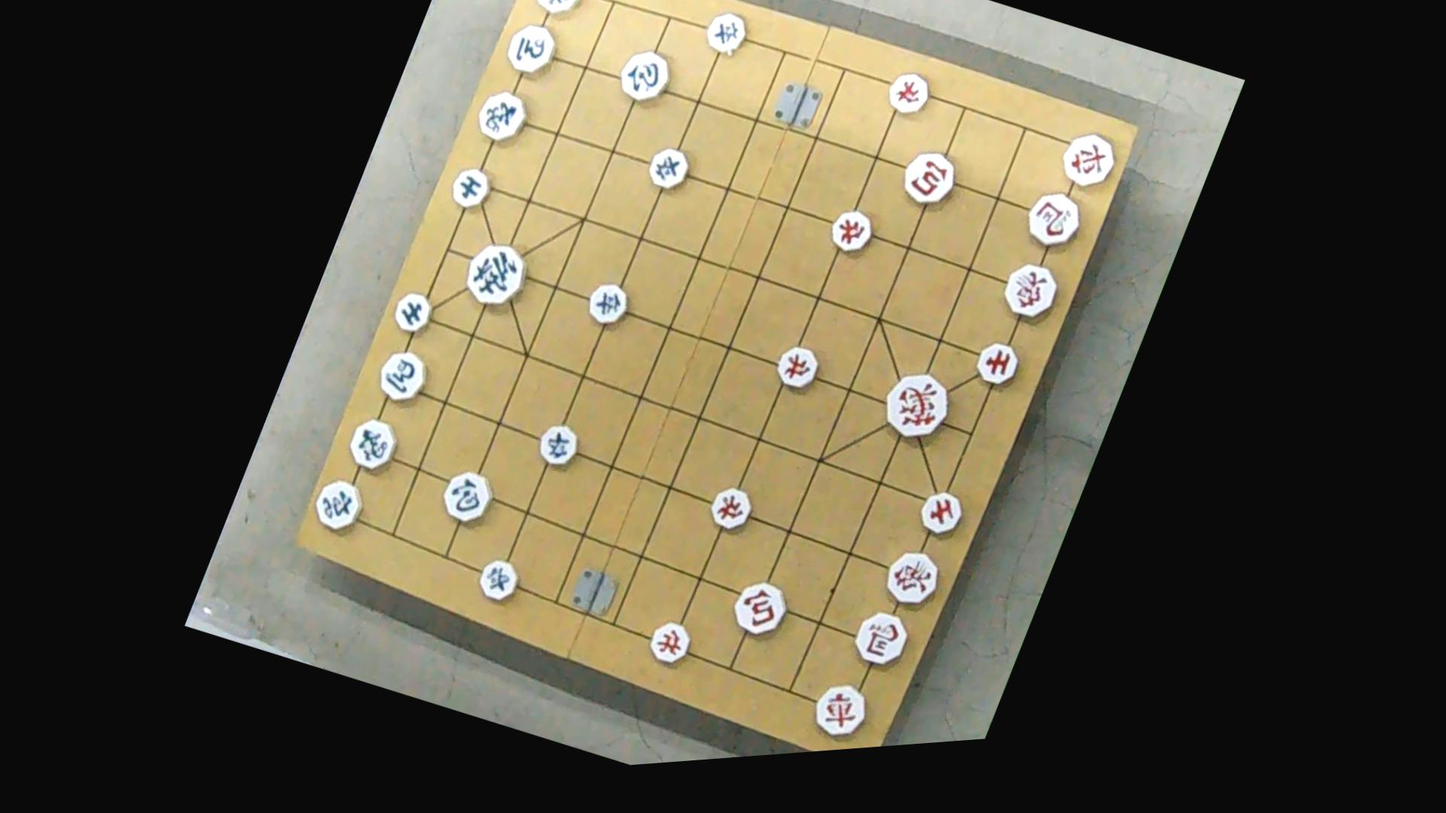cha_green: (307, 474, 370, 540), (527, 0, 590, 22)
cha_red: (1052, 123, 1124, 202), (807, 680, 872, 748)
jol_green: (532, 416, 583, 471), (642, 142, 692, 197), (700, 4, 750, 59), (581, 279, 631, 333), (474, 551, 523, 604)
jol_red: (771, 341, 823, 398), (826, 203, 878, 260), (884, 65, 935, 121), (706, 484, 757, 540), (643, 617, 693, 672)
ma_green: (373, 343, 434, 410), (501, 18, 560, 84)
ma_red: (1019, 184, 1086, 254), (847, 605, 914, 674)
po_green: (436, 462, 498, 529), (613, 43, 675, 110)
po_red: (727, 572, 792, 642), (897, 142, 961, 211)
sa_green: (446, 163, 493, 216), (387, 290, 434, 342)
sa_red: (971, 336, 1023, 392), (914, 484, 966, 540)
sang_green: (465, 81, 532, 154), (341, 412, 401, 476)
sang_red: (874, 540, 946, 620), (996, 257, 1061, 327)
wang_green: (459, 237, 532, 318)
wang_red: (877, 367, 955, 451)
